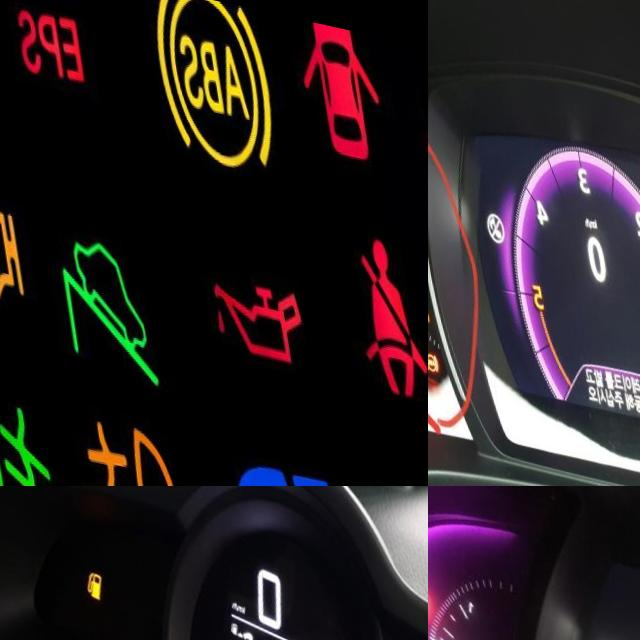FrontFogLight: (0, 384, 44, 486)
Low fuel level: (74, 560, 99, 596)
SideLamp: (354, 463, 428, 486)
